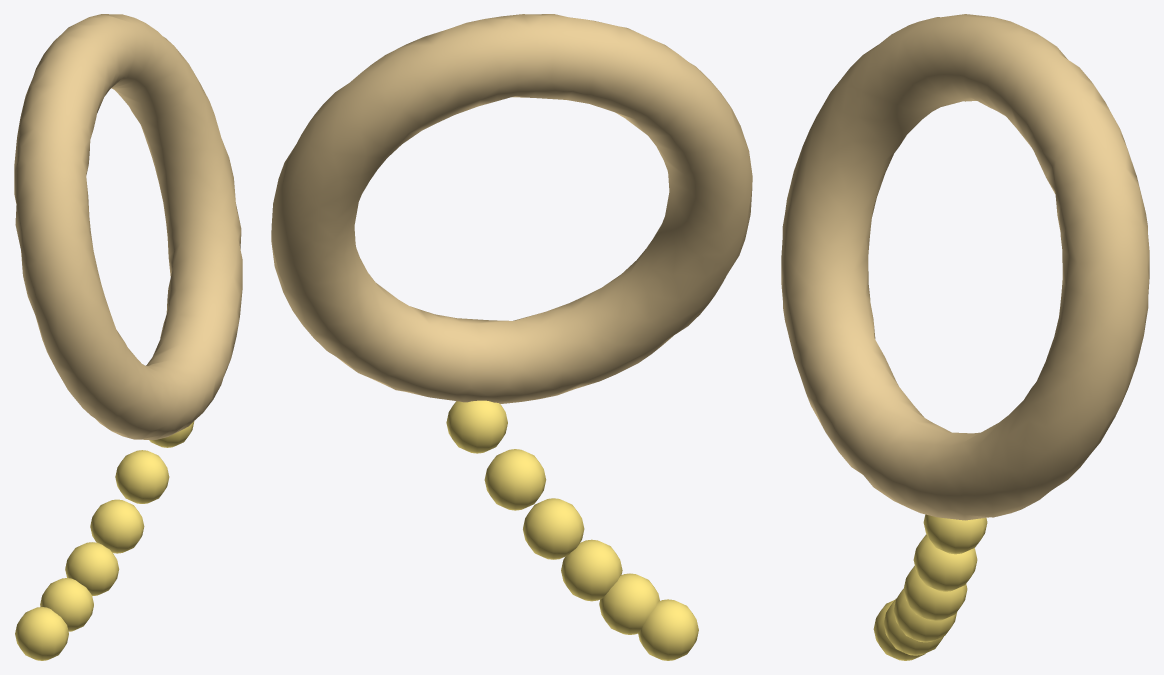
The model's file is acc_monocle.glb.
The picture shows the model from 3 angles, left to right: view 1: azimuth 30°, elevation 25°; view 2: azimuth 150°, elevation 25°; view 3: azimuth 270°, elevation 25°; orthographic projection. The views are drawn at different scales.
Parts seen in each view (by area): view 1: body, center; view 2: body, center; view 3: body, center.
Part boxes in pixels (bbox=[...]): body: bbox=[14, 14, 242, 439]; center: bbox=[15, 421, 194, 660]; body: bbox=[271, 14, 752, 403]; center: bbox=[446, 400, 698, 660]; body: bbox=[781, 14, 1149, 520]; center: bbox=[873, 514, 987, 660].
Size of the model in its own units: 0.21 by 0.3741 by 0.1845.
